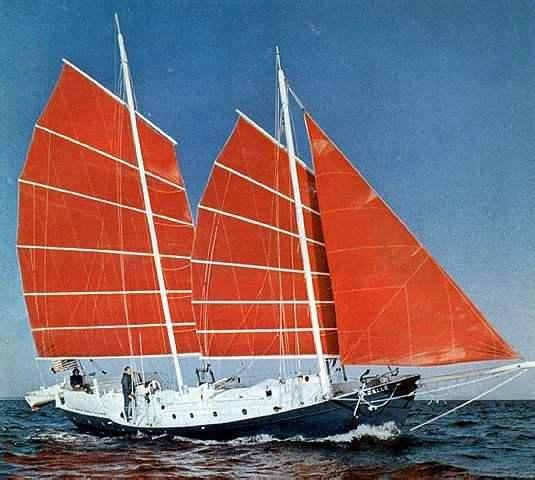fanchuan: (12, 23, 535, 442)
